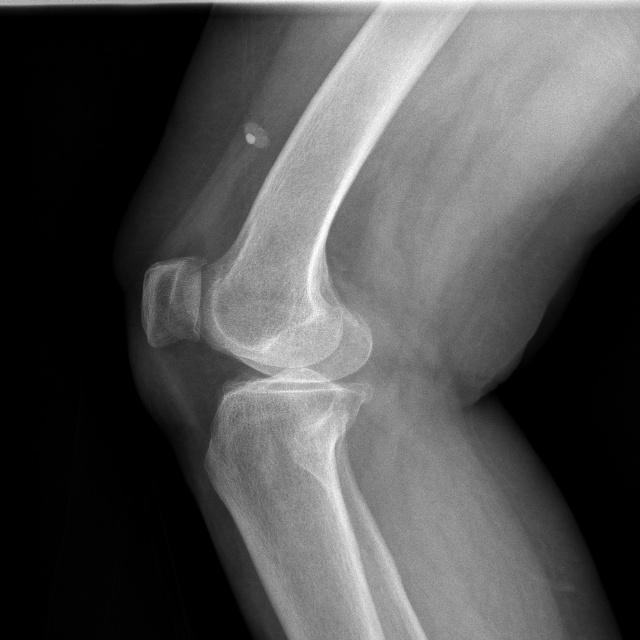Knee: (137, 250, 372, 459)
